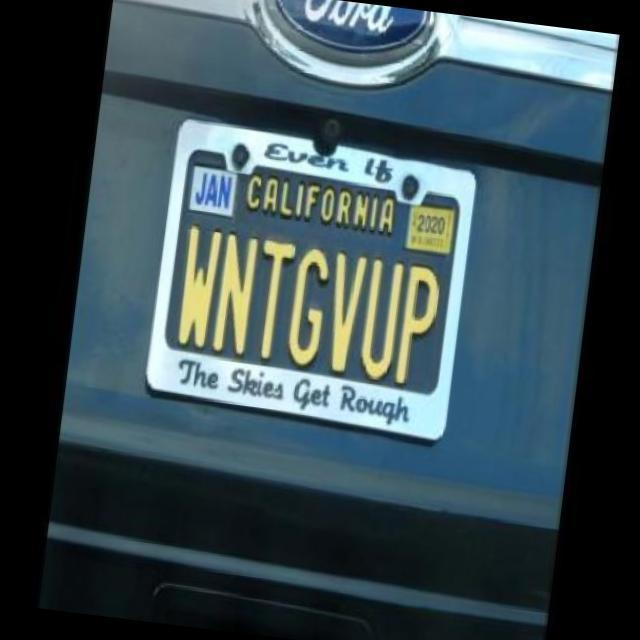License Plate: (145, 118, 479, 446)
